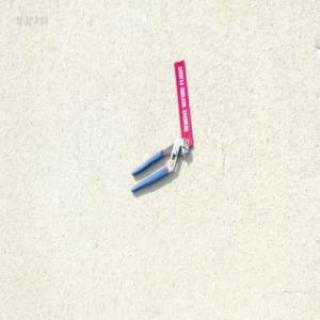LuggageTagtrack_idkeyframe: (174, 58, 194, 146)
Pliertrack_idkeyframe: (130, 135, 189, 193)
